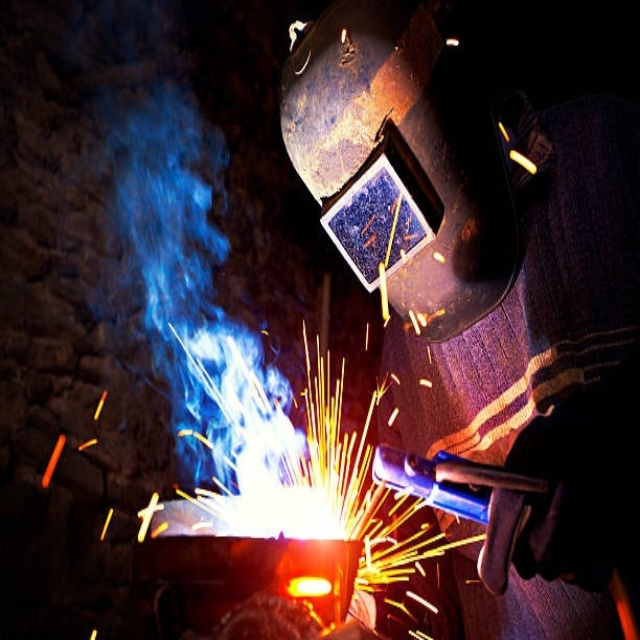Guantes: (486, 390, 633, 595)
